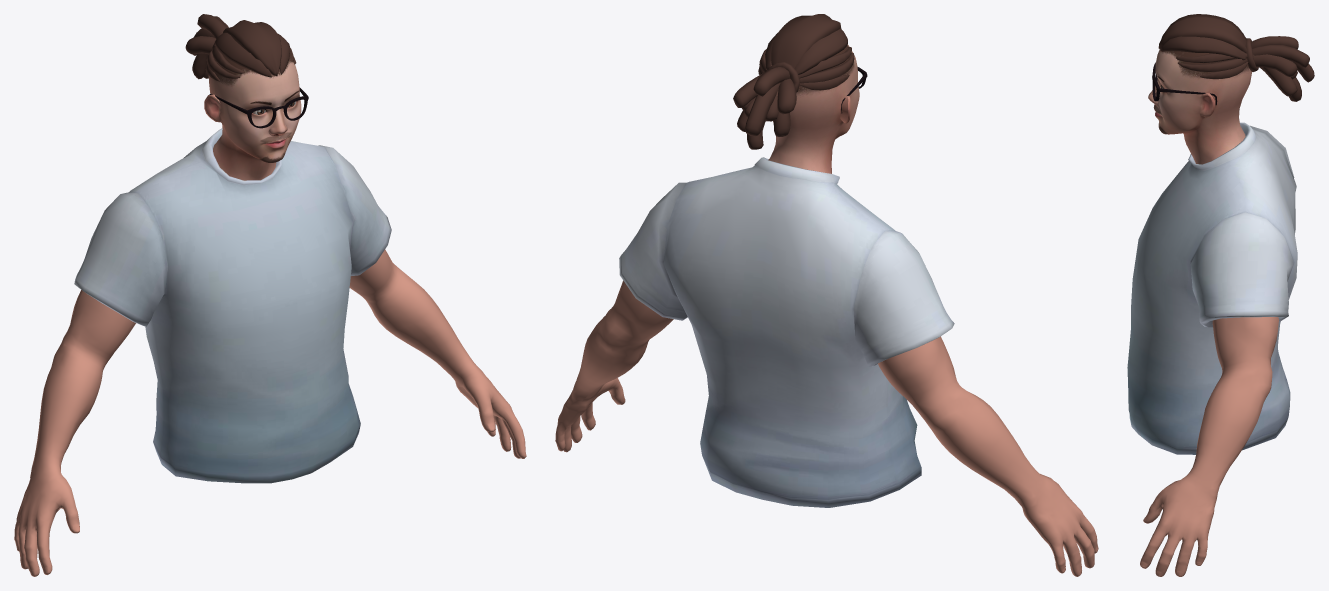
Rendered from asian_upper_new.glb.
The picture shows the model from 3 angles, left to right: view 1: azimuth 30°, elevation 25°; view 2: azimuth 150°, elevation 25°; view 3: azimuth 270°, elevation 25°; orthographic projection. The views are drawn at different scales.
Parts seen in each view (by area): view 1: Wolf3D_Outfit_Top, Wolf3D_Body, Wolf3D_Head, Wolf3D_Hair, Wolf3D_Glasses; view 2: Wolf3D_Outfit_Top, Wolf3D_Body, Wolf3D_Hair, Wolf3D_Head; view 3: Wolf3D_Outfit_Top, Wolf3D_Body, Wolf3D_Head, Wolf3D_Hair, Wolf3D_Glasses.
Boxes of the visible parts, x1,y1,x2,y2 form: Wolf3D_Outfit_Top: [74, 128, 391, 483]; Wolf3D_Body: [14, 249, 526, 576]; Wolf3D_Head: [204, 55, 301, 180]; Wolf3D_Hair: [185, 14, 296, 81]; Wolf3D_Glasses: [209, 87, 308, 128]; Wolf3D_Outfit_Top: [619, 157, 954, 507]; Wolf3D_Body: [555, 280, 1098, 576]; Wolf3D_Hair: [733, 14, 854, 149]; Wolf3D_Head: [768, 44, 859, 173]; Wolf3D_Outfit_Top: [1127, 122, 1297, 454]; Wolf3D_Body: [1140, 317, 1278, 576]; Wolf3D_Head: [1148, 49, 1251, 164]; Wolf3D_Hair: [1158, 14, 1314, 101]; Wolf3D_Glasses: [1152, 62, 1217, 105].
Size of the model in its own units: 1.06 by 0.9746 by 0.3678.
Materials: 7 (7 with a texture image).
